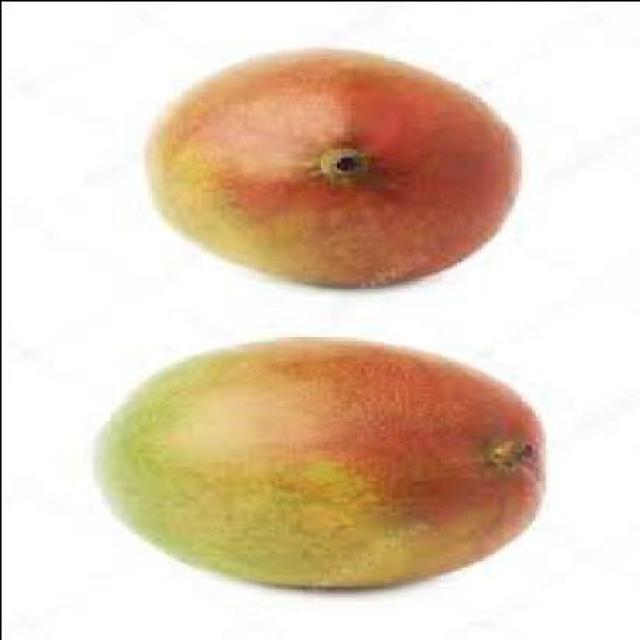BIODEGRADABLE: (95, 338, 545, 591), (148, 48, 515, 288)
